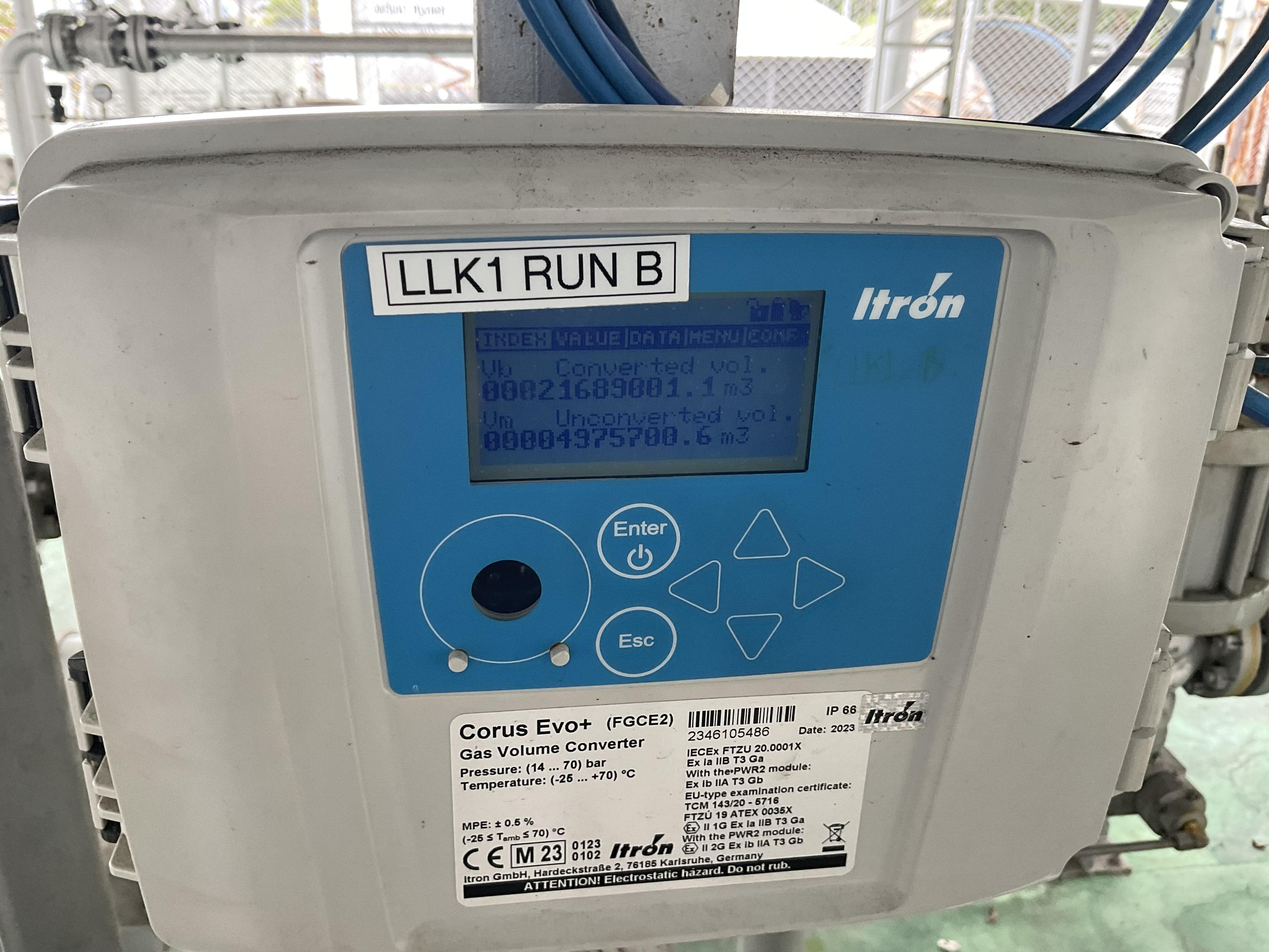digital_screen: (462, 290, 830, 487)
